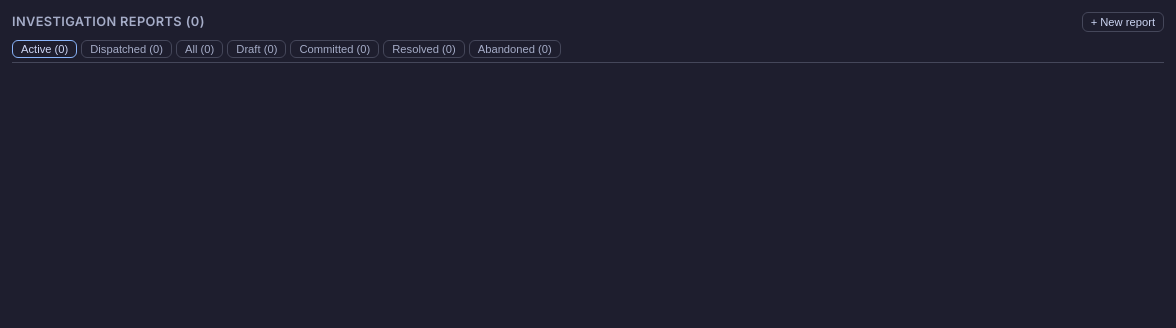
InvestigationReportSection — filing a report is a single action › shows the validation error and creates nothing when title is missing
Expected: the element with test id "investigation-report-section" is shown, x1=12 y1=12 x2=1164 y2=64
Click the button with test id "report-start-draft" at (1123, 22), box x1=1082 y1=12 x2=1164 y2=32
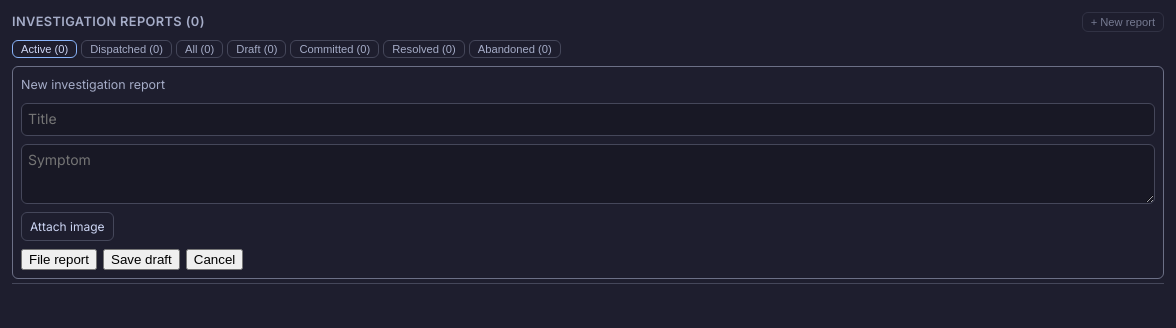
Click the button with test id "report-draft-submit" at (59, 260), box x1=21 y1=249 x2=97 y2=270
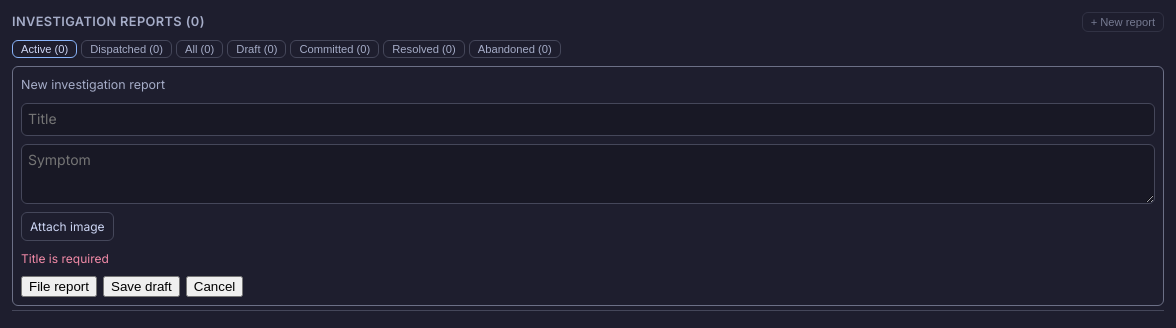
Expected: the text "Title is required" is shown, x1=21 y1=251 x2=109 y2=266
